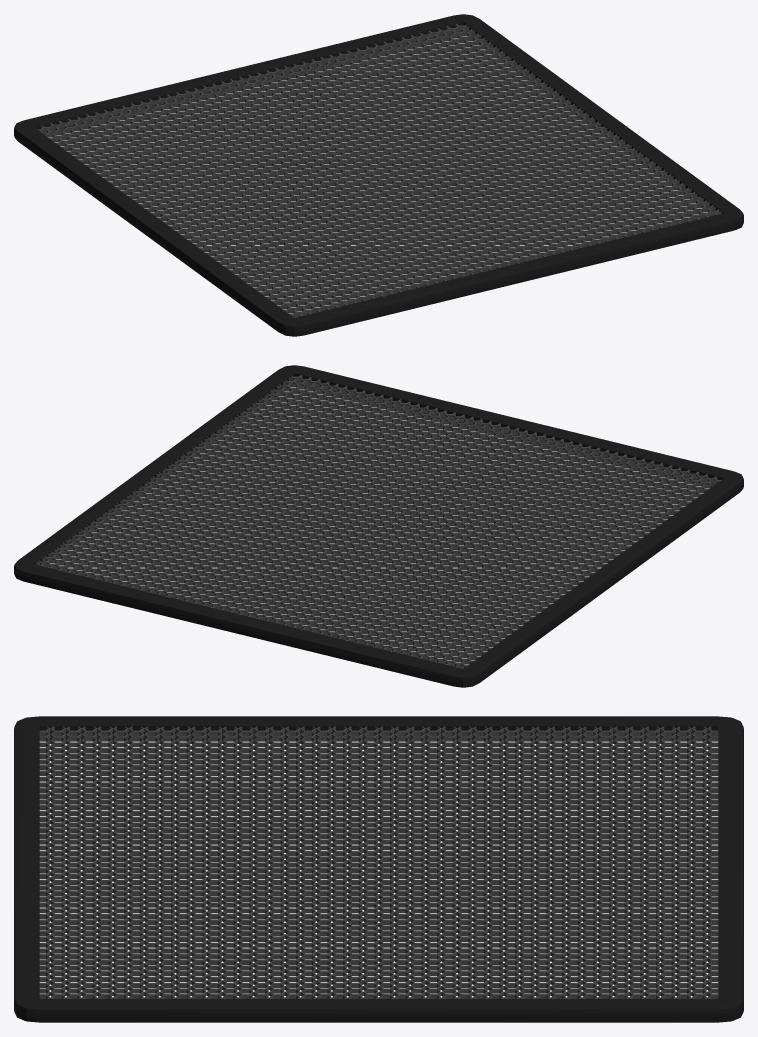
The model's file is platformGrating.fbx.
3 views of the same model, one above another, from view 1: azimuth 30°, elevation 25°; view 2: azimuth 150°, elevation 25°; view 3: azimuth 270°, elevation 25° (orthographic). The views are drawn at different scales.
Visible parts, largest first — view 1: Circle; view 2: Circle; view 3: Circle.
Boxes of the visible parts, x1=… form: Circle: x1=14, y1=14, x2=743, y2=336; Circle: x1=14, y1=365, x2=743, y2=687; Circle: x1=14, y1=716, x2=743, y2=1022.
Size of the model in its own units: 1608 by 35.87 by 1690.
